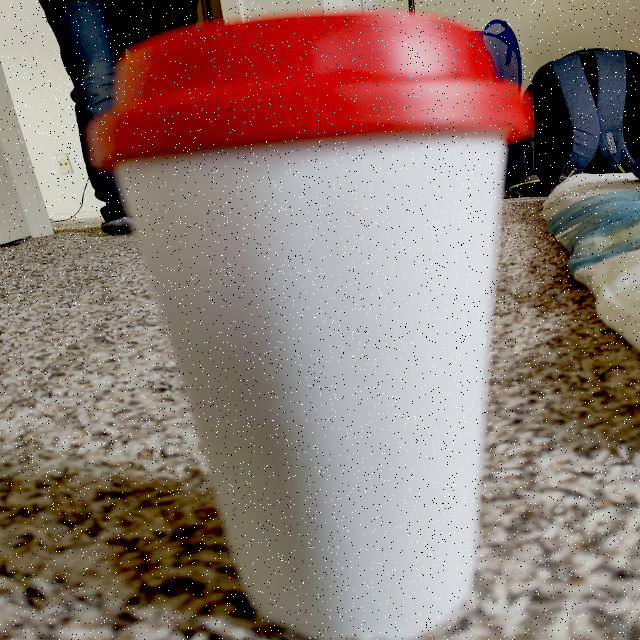mug: (106, 6, 538, 627)
